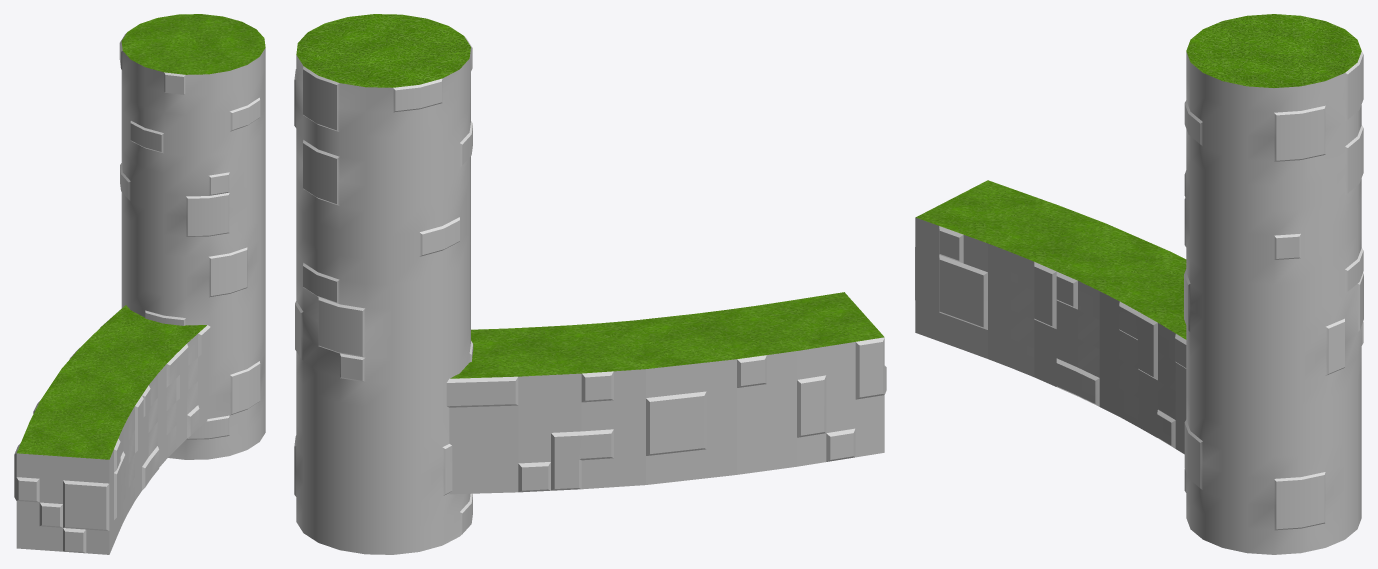
The model's file is SM_world_1_floating_island_1.fbx.
The picture shows the model from 3 angles, left to right: view 1: azimuth 30°, elevation 25°; view 2: azimuth 150°, elevation 25°; view 3: azimuth 270°, elevation 25°; orthographic projection. The views are drawn at different scales.
Parts seen in each view (by area): view 1: Main_mesh.001; view 2: Main_mesh.001; view 3: Main_mesh.001.
Boxes of the visible parts, box(x1,y1,x2,y2) form: Main_mesh.001: box(14, 14, 265, 554); Main_mesh.001: box(294, 14, 886, 554); Main_mesh.001: box(915, 14, 1363, 554).
Size of the model in its own units: 47.9 by 42.75 by 49.05.
